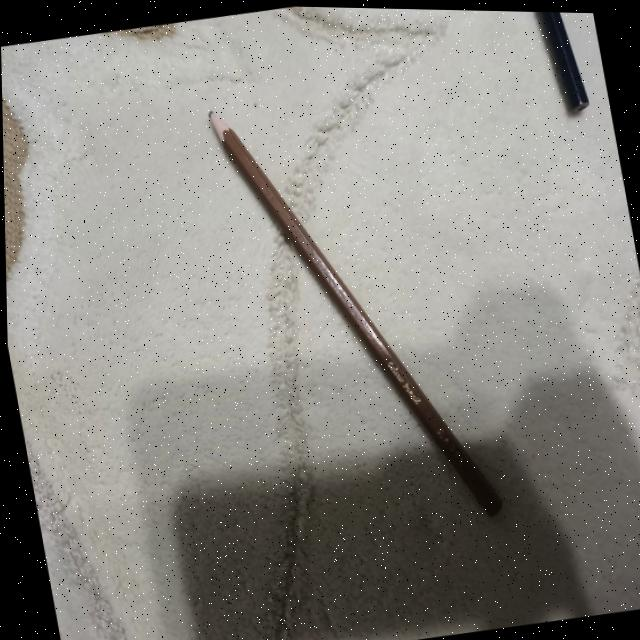pencil: (208, 111, 500, 514)
